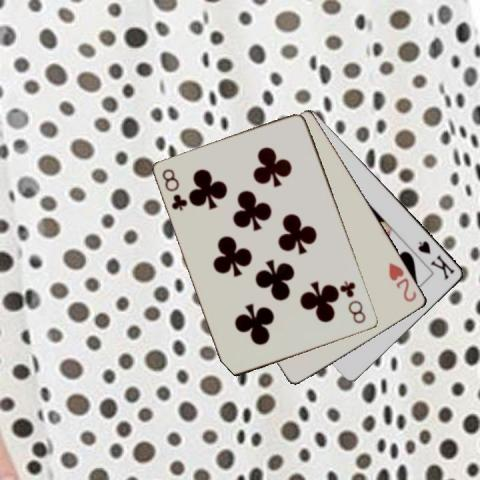2h: (386, 260, 419, 303)
8c: (160, 166, 190, 213), (338, 278, 367, 326)
Ks: (415, 237, 456, 282)
